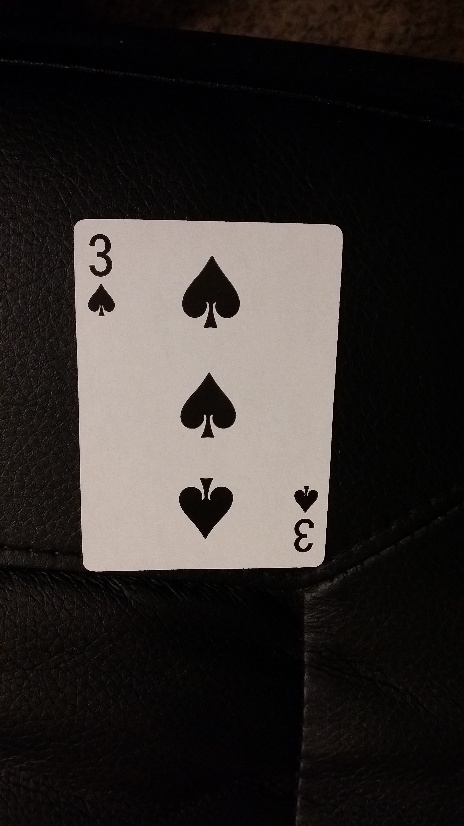S3: (80, 227, 121, 320), (287, 479, 322, 560)
